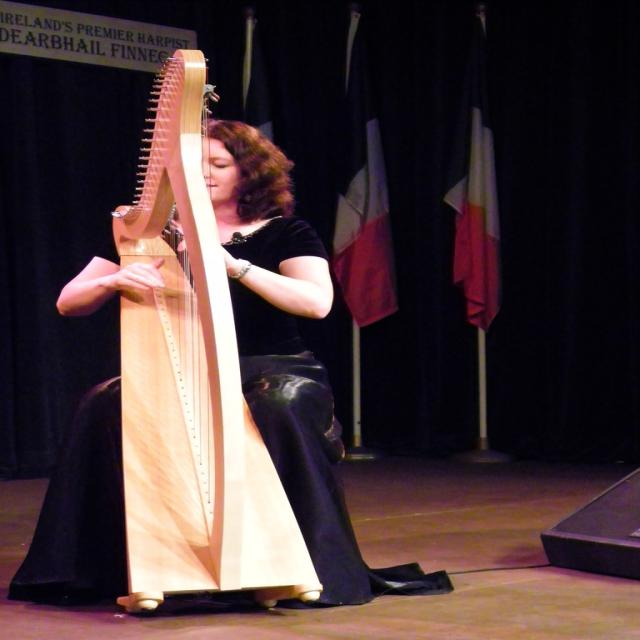harp: (105, 48, 324, 610)
